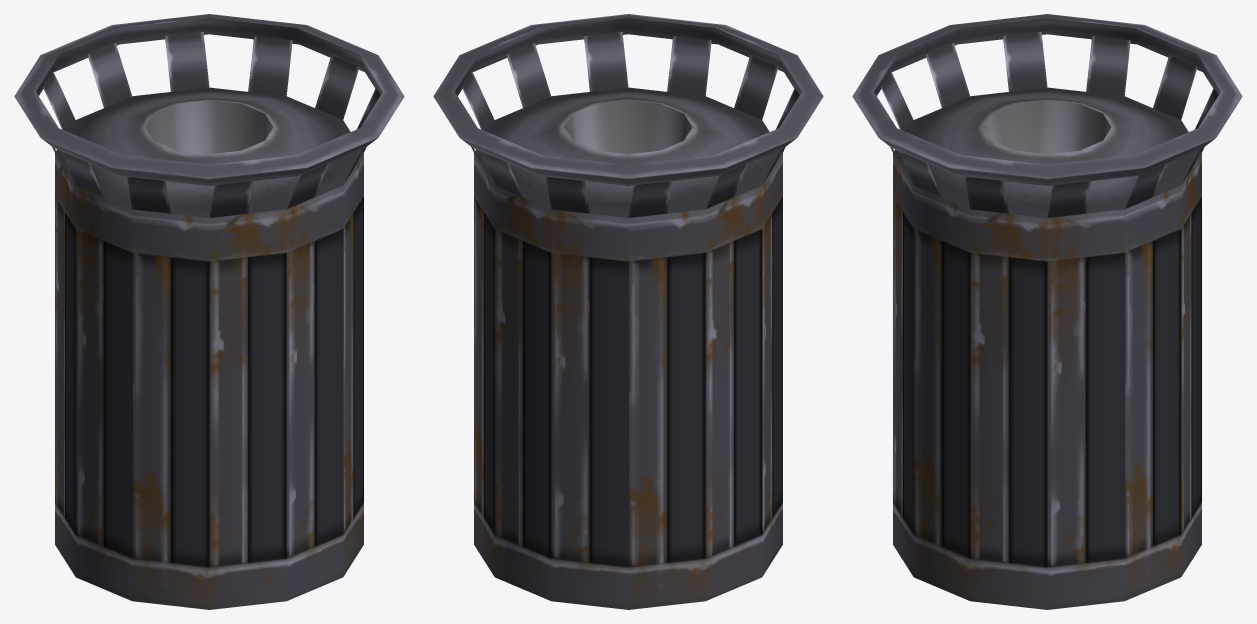
File: trashCan03.fbx
3 renders of one model, left to right at view 1: azimuth 30°, elevation 25°; view 2: azimuth 150°, elevation 25°; view 3: azimuth 270°, elevation 25°, orthographic.
Parts seen in each view (by area): view 1: trashCan03; view 2: trashCan03; view 3: trashCan03.
Part boxes in pixels (x1,y1,x2,y2): trashCan03: (14,14,404,609); trashCan03: (433,14,823,609); trashCan03: (852,14,1242,609).
Bounding box in the file's own units: 63.19 × 80.95 × 63.19.
